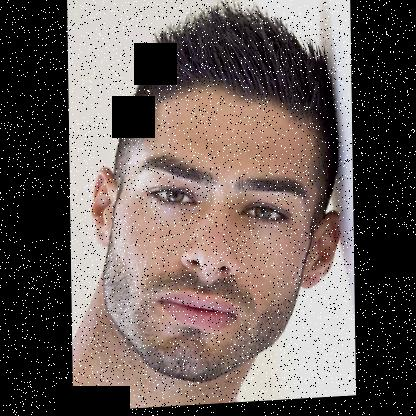Male: (90, 77, 342, 387)
